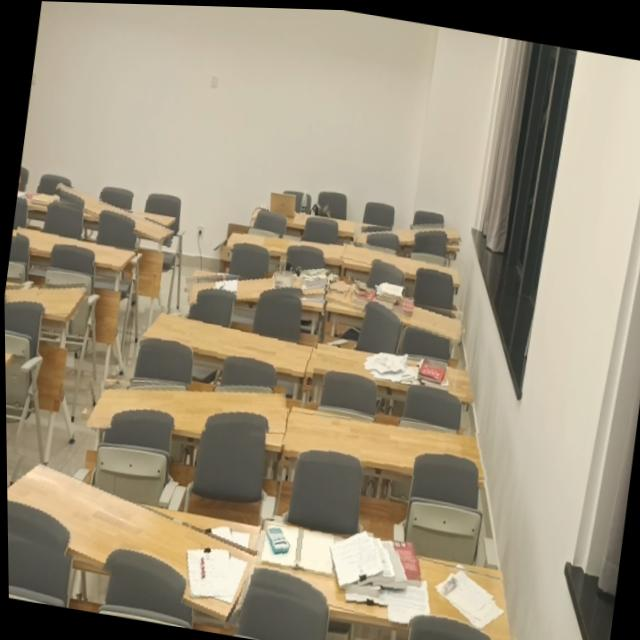Non-empty: (6, 463, 259, 620), (249, 517, 509, 640), (310, 340, 471, 402), (324, 273, 461, 339), (188, 268, 328, 304), (253, 201, 357, 233), (19, 185, 60, 209)
empty: (283, 410, 485, 479), (140, 306, 317, 380), (86, 382, 285, 433), (52, 186, 174, 239), (14, 225, 137, 269), (341, 242, 460, 283), (227, 232, 345, 262), (355, 220, 460, 248), (5, 284, 85, 316), (4, 351, 15, 364)
